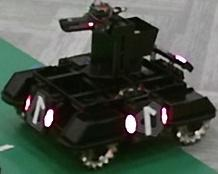armor_1: (125, 107, 167, 133), (25, 96, 54, 127)
front_1: (27, 91, 46, 132)
left_1: (137, 102, 164, 136)
